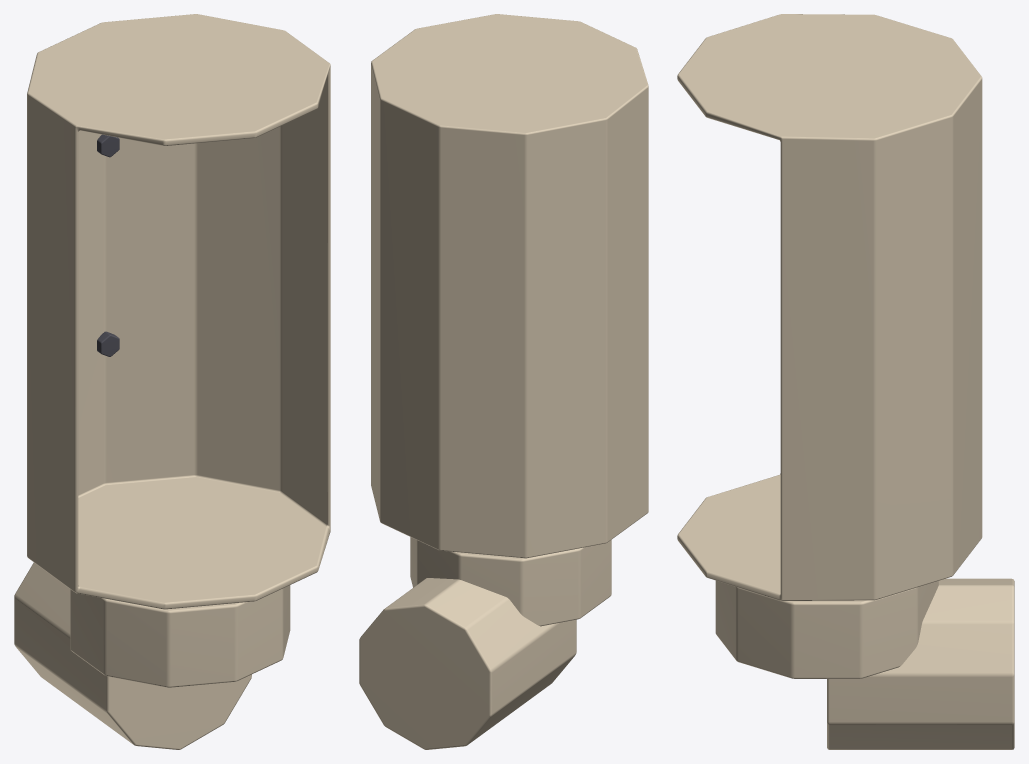
The model's file is kitbash_shell_leg_right_001_lower.glb.
3 renders of one model, left to right at view 1: azimuth 30°, elevation 25°; view 2: azimuth 150°, elevation 25°; view 3: azimuth 270°, elevation 25°, orthographic. The views are drawn at different scales.
Visible parts, largest first — view 1: SHELL_legR_lo; view 2: SHELL_legR_lo; view 3: SHELL_legR_lo.
Part boxes in pixels (x1=…): SHELL_legR_lo: x1=14, y1=14, x2=330, y2=749; SHELL_legR_lo: x1=359, y1=14, x2=648, y2=749; SHELL_legR_lo: x1=677, y1=14, x2=1014, y2=749.
Bounding box in the file's own units: 0.4739 × 1.18 × 0.5394.
